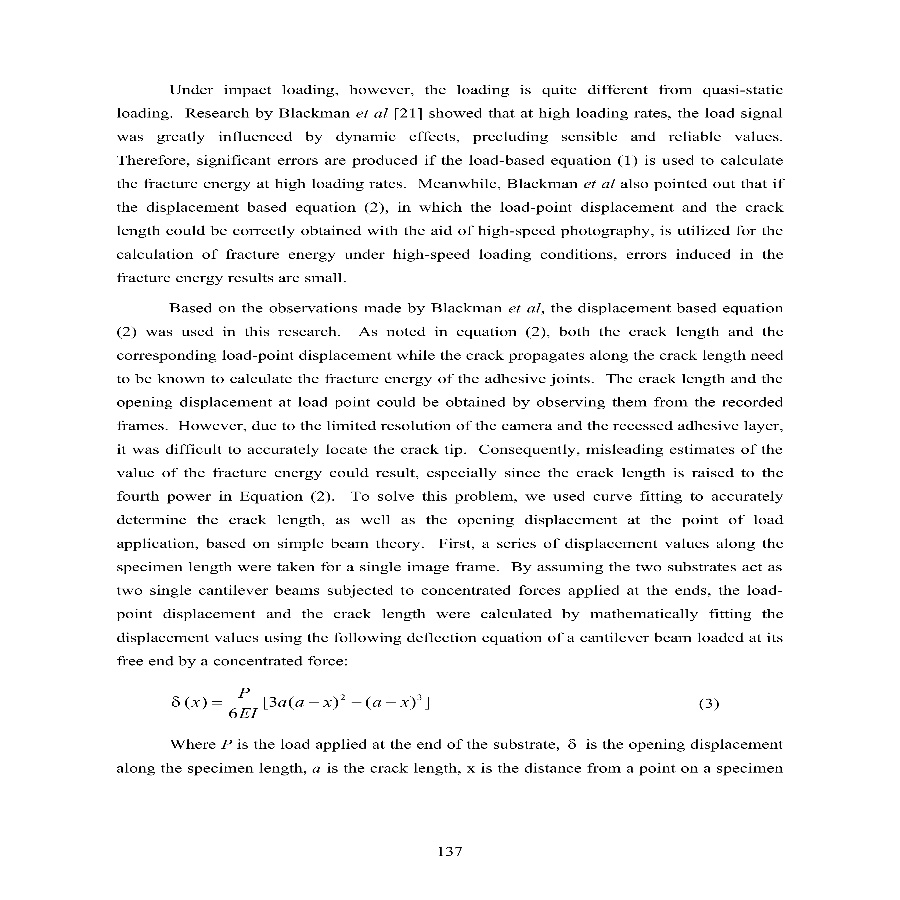eq: (165, 683, 435, 722)
